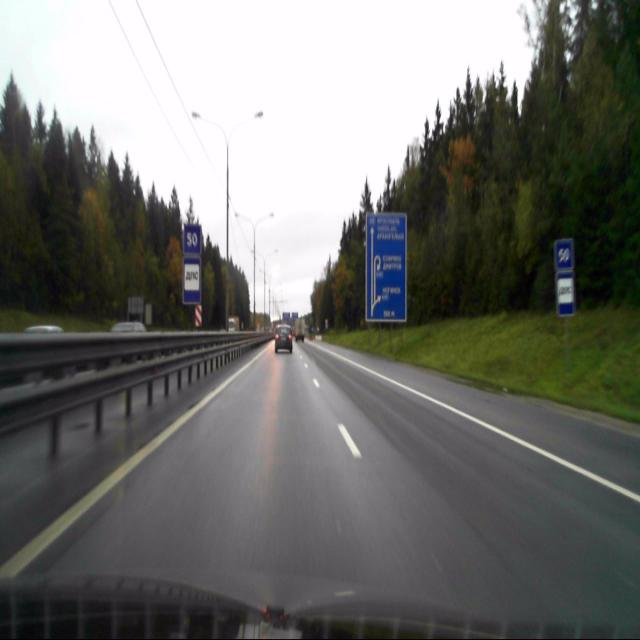road sign: (182, 257, 201, 303), (555, 274, 574, 314), (554, 240, 572, 273), (184, 223, 201, 254)
